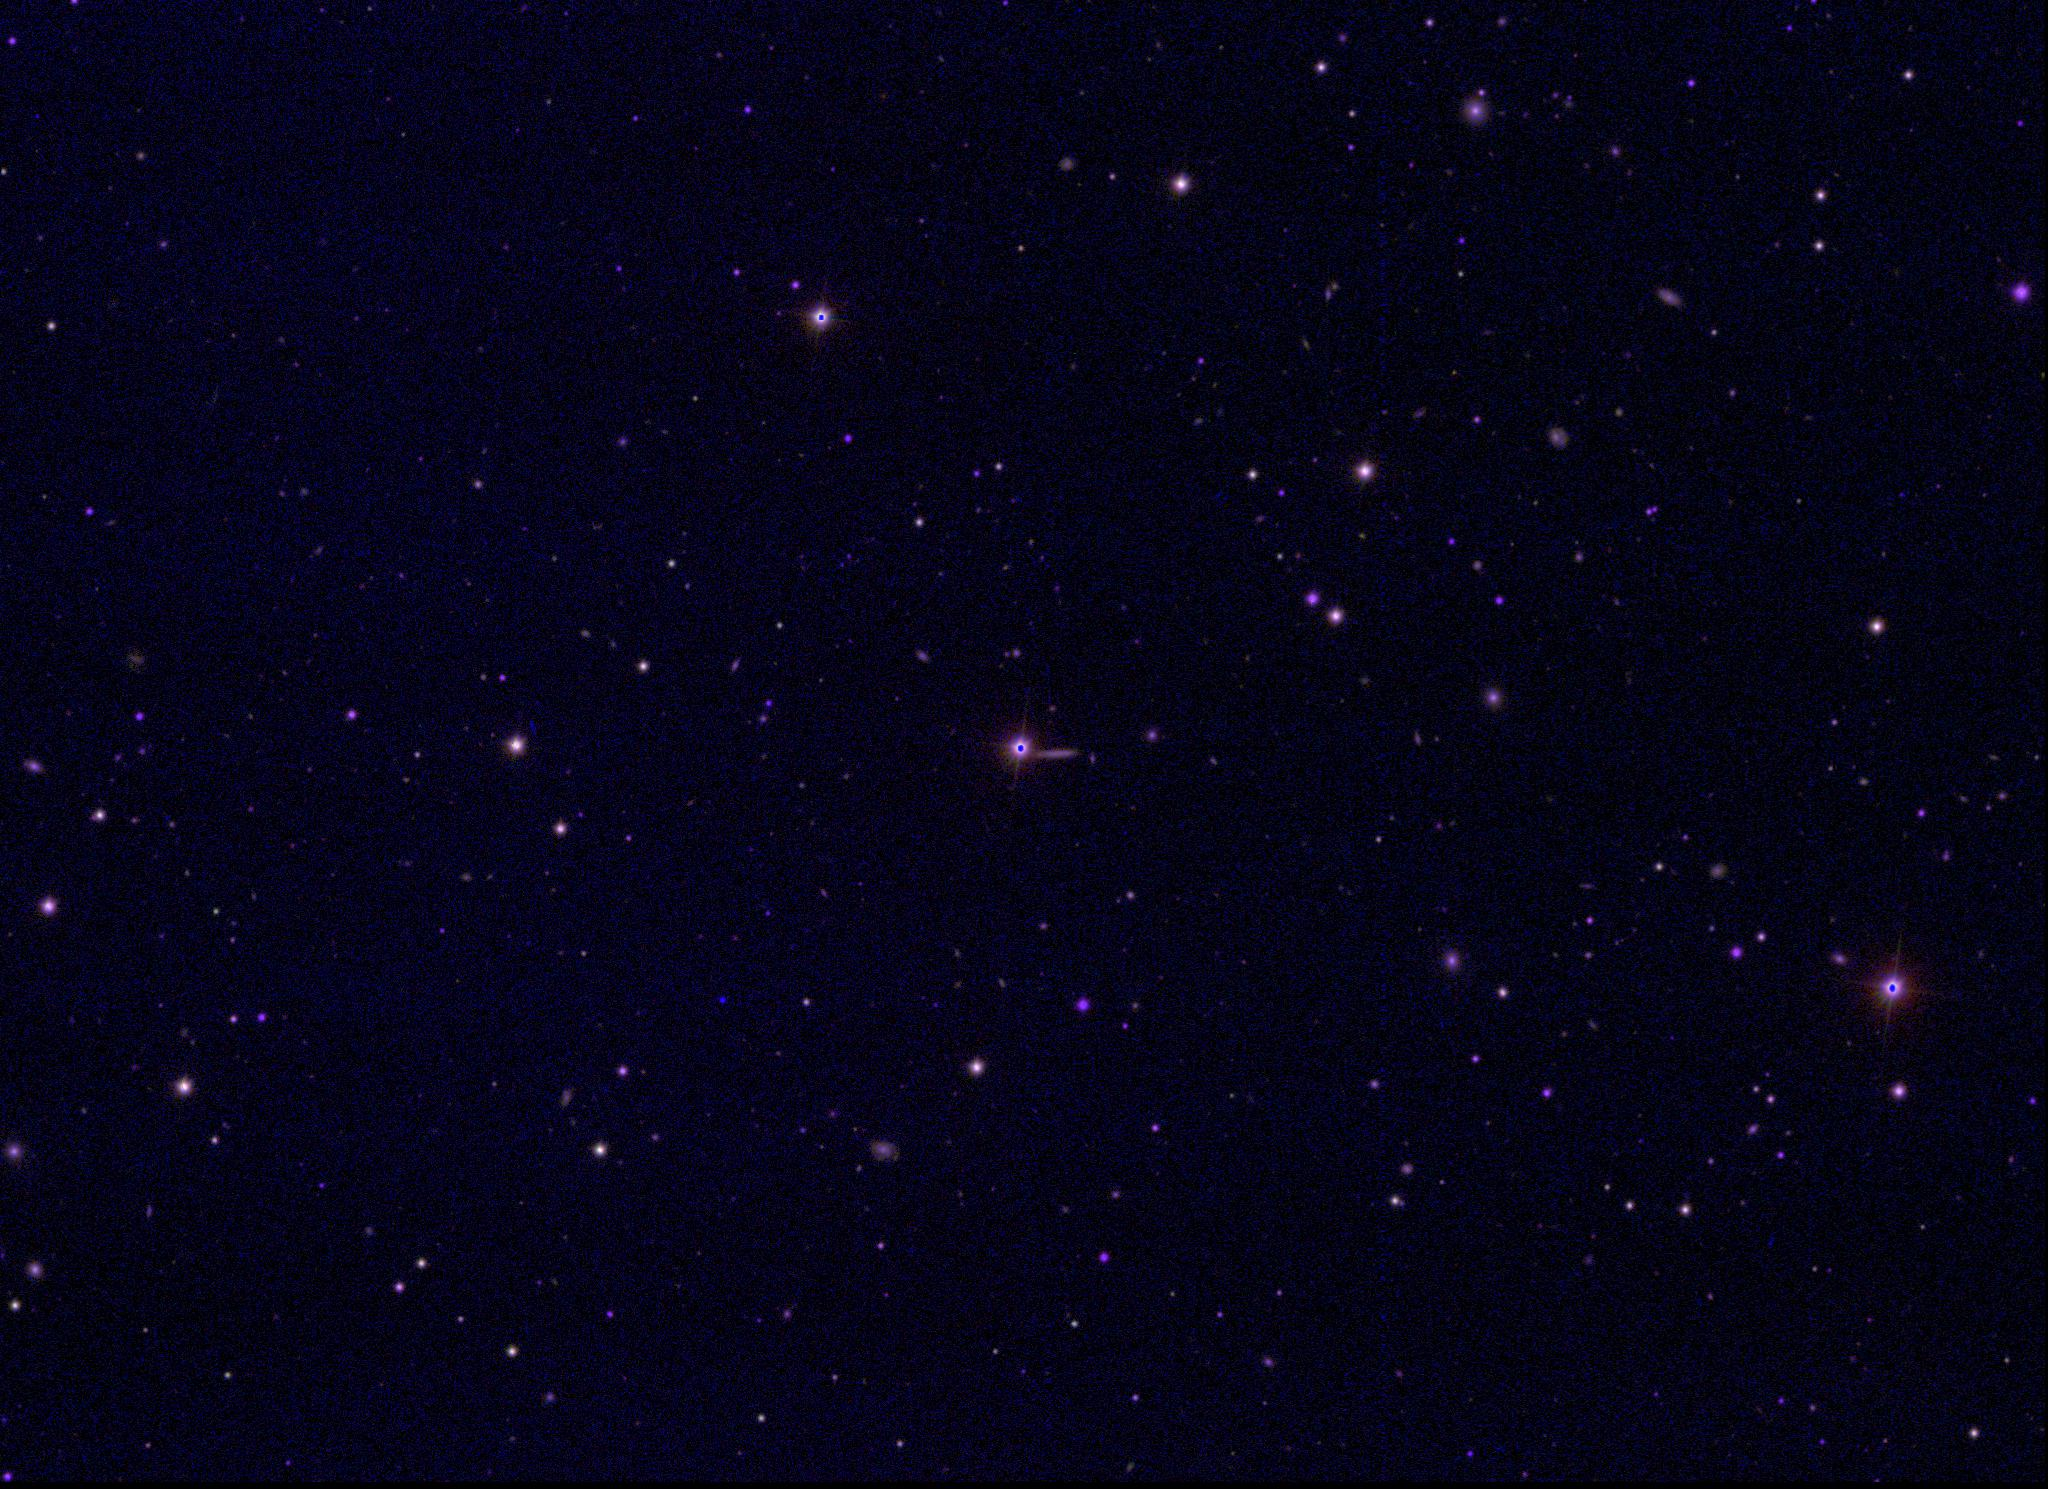L: (712, 994, 727, 1009)
